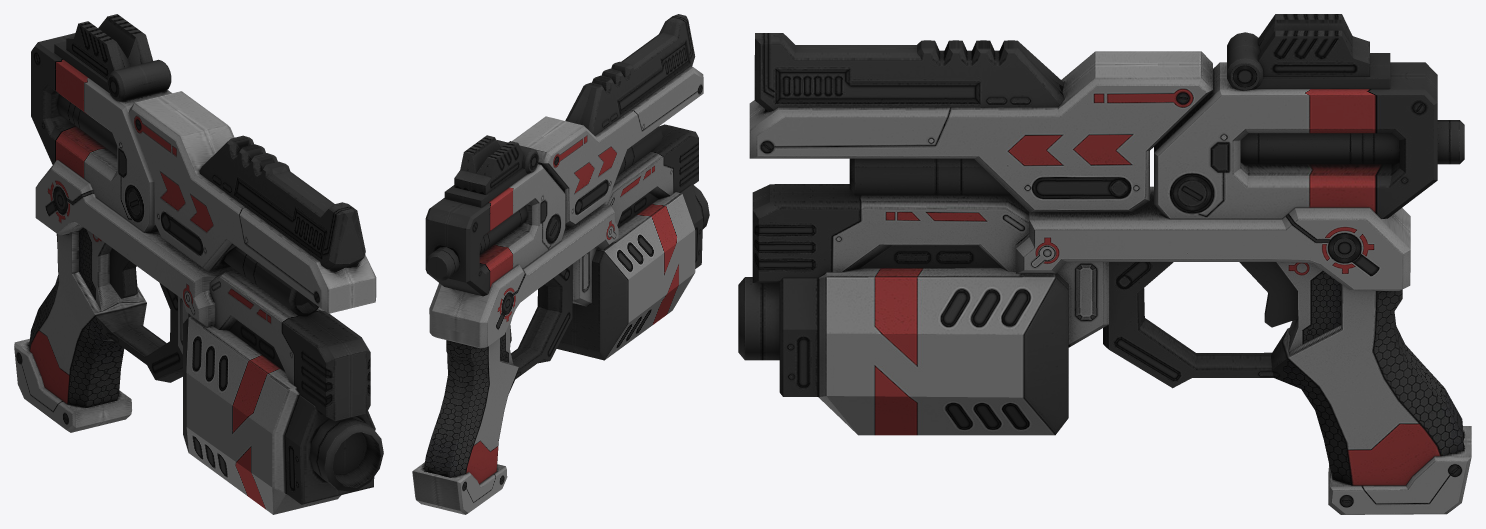
The model's file is blaster_high.glb.
The picture shows the model from 3 angles, left to right: view 1: azimuth 30°, elevation 25°; view 2: azimuth 150°, elevation 25°; view 3: azimuth 270°, elevation 25°; orthographic projection. The views are drawn at different scales.
Visible parts, largest first — view 1: BaseMesh; view 2: BaseMesh; view 3: BaseMesh.
Boxes of the visible parts, x1=… form: BaseMesh: x1=14, y1=14, x2=383, y2=514; BaseMesh: x1=412, y1=14, x2=709, y2=514; BaseMesh: x1=738, y1=14, x2=1471, y2=514.
Size of the model in its own units: 0.0484 by 0.1949 by 0.2731.
1 material, 1 textured.
